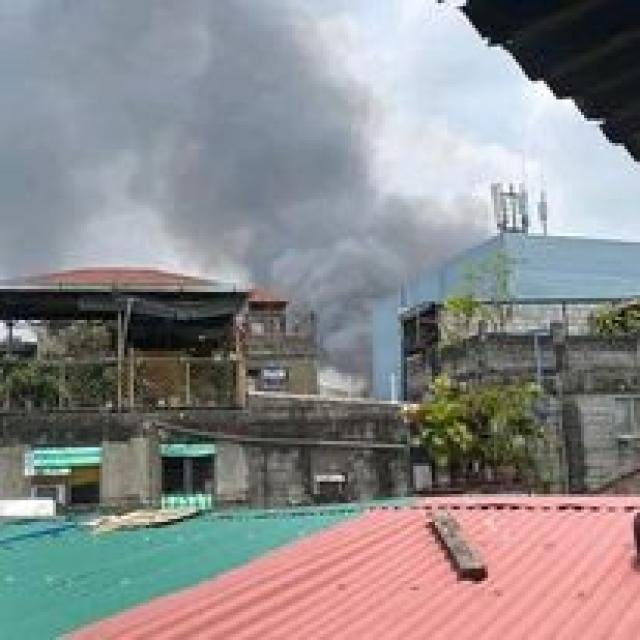Smoke: (153, 20, 400, 242), (22, 2, 161, 180), (279, 230, 386, 366)
